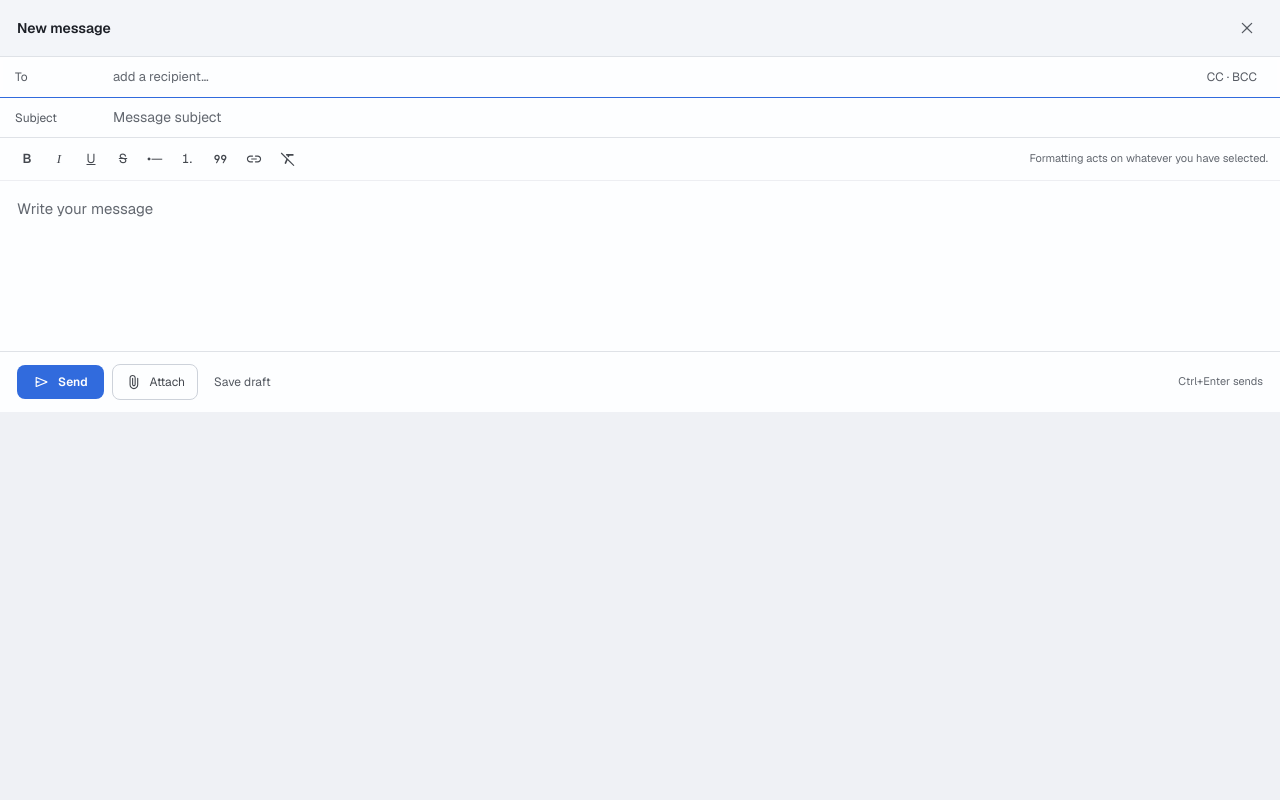
Composer, a message of its own › closes the composer once the deployment has queued the message, and says from the corner that it was
In the dropdown labelled "To": (651, 77) [113, 67, 1189, 87], type "ada@example.invalid"
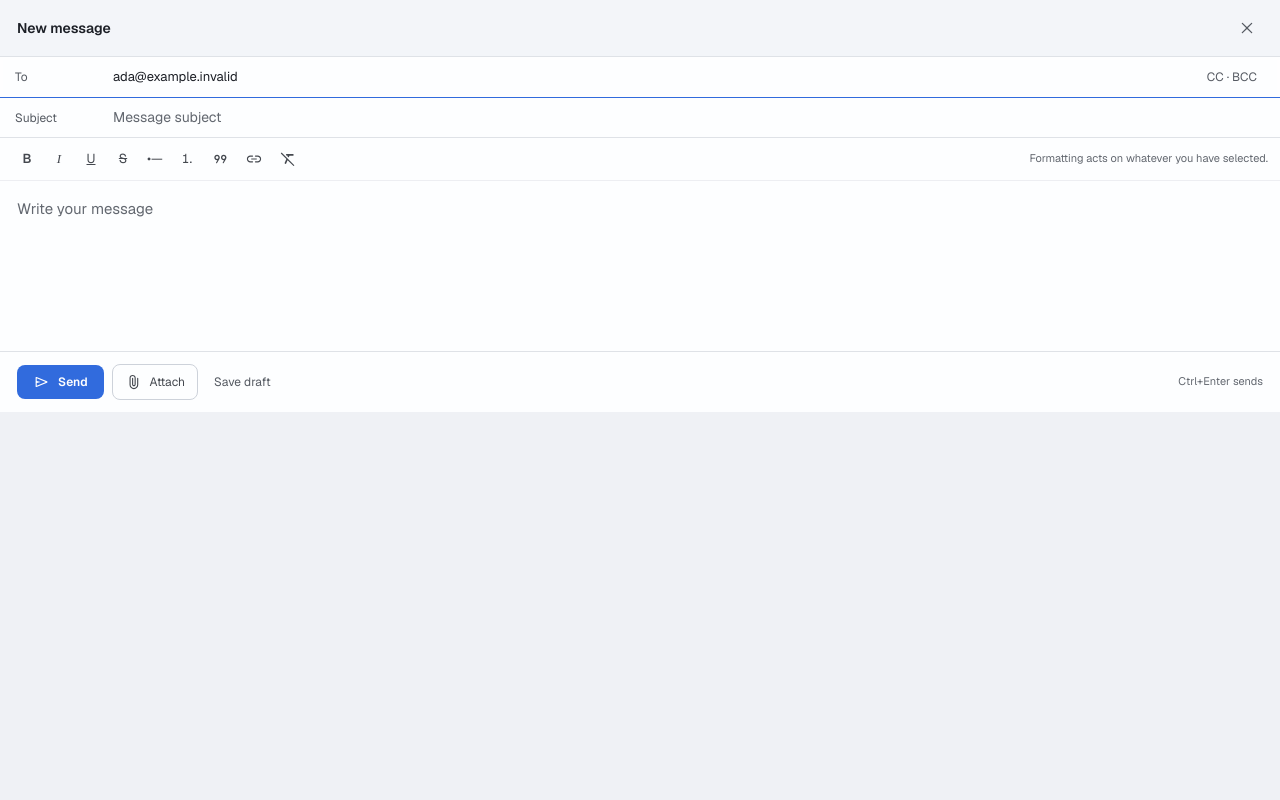
Press Enter in the dropdown labelled "To", box [113, 67, 1189, 87]
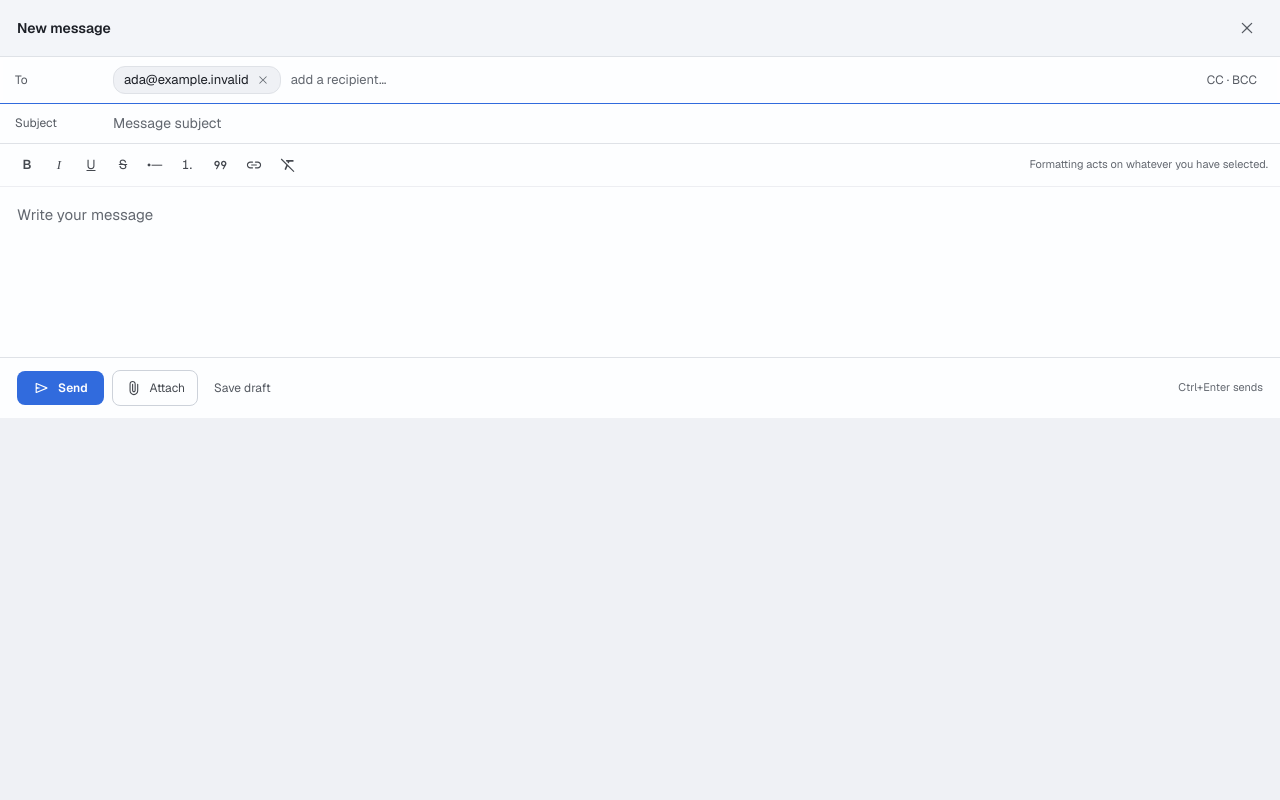
Click the button "Send": (60, 388) [17, 370, 104, 404]
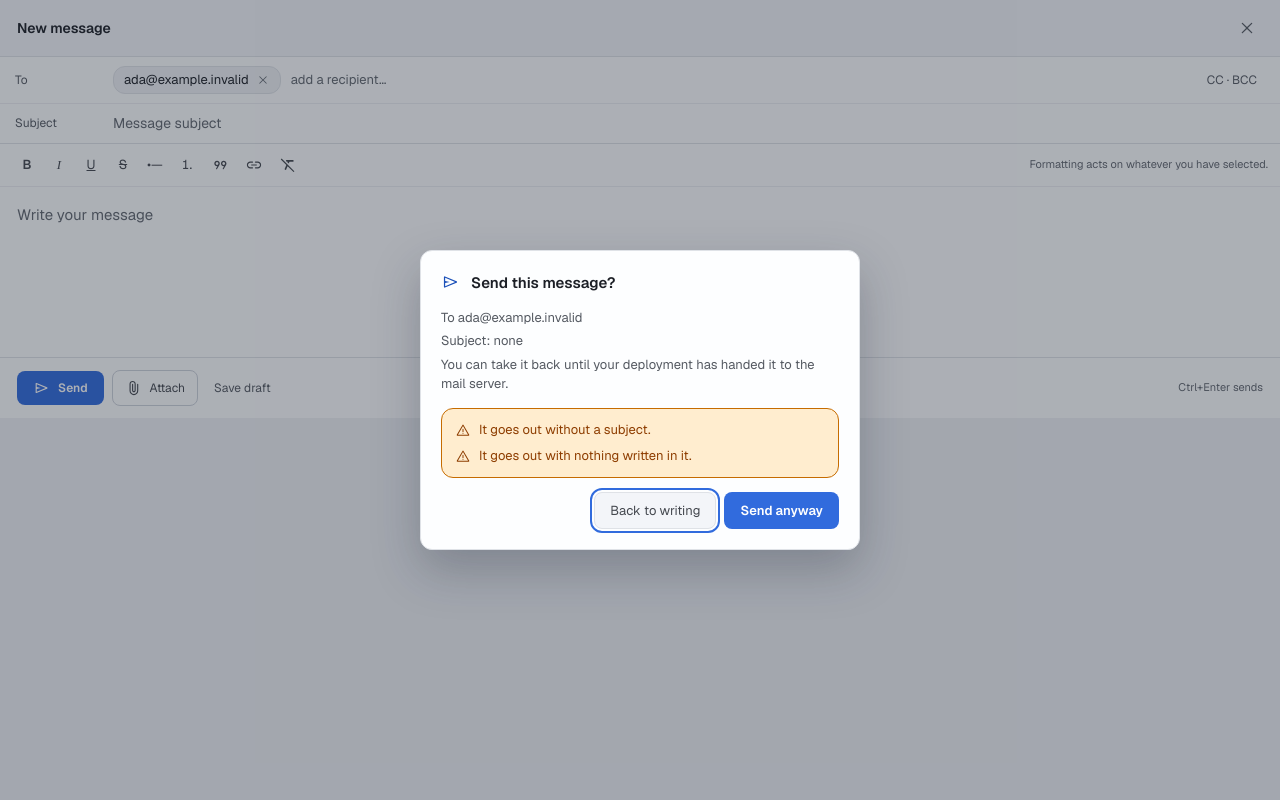
Click the button "Send anyway": (782, 511) [724, 492, 839, 529]
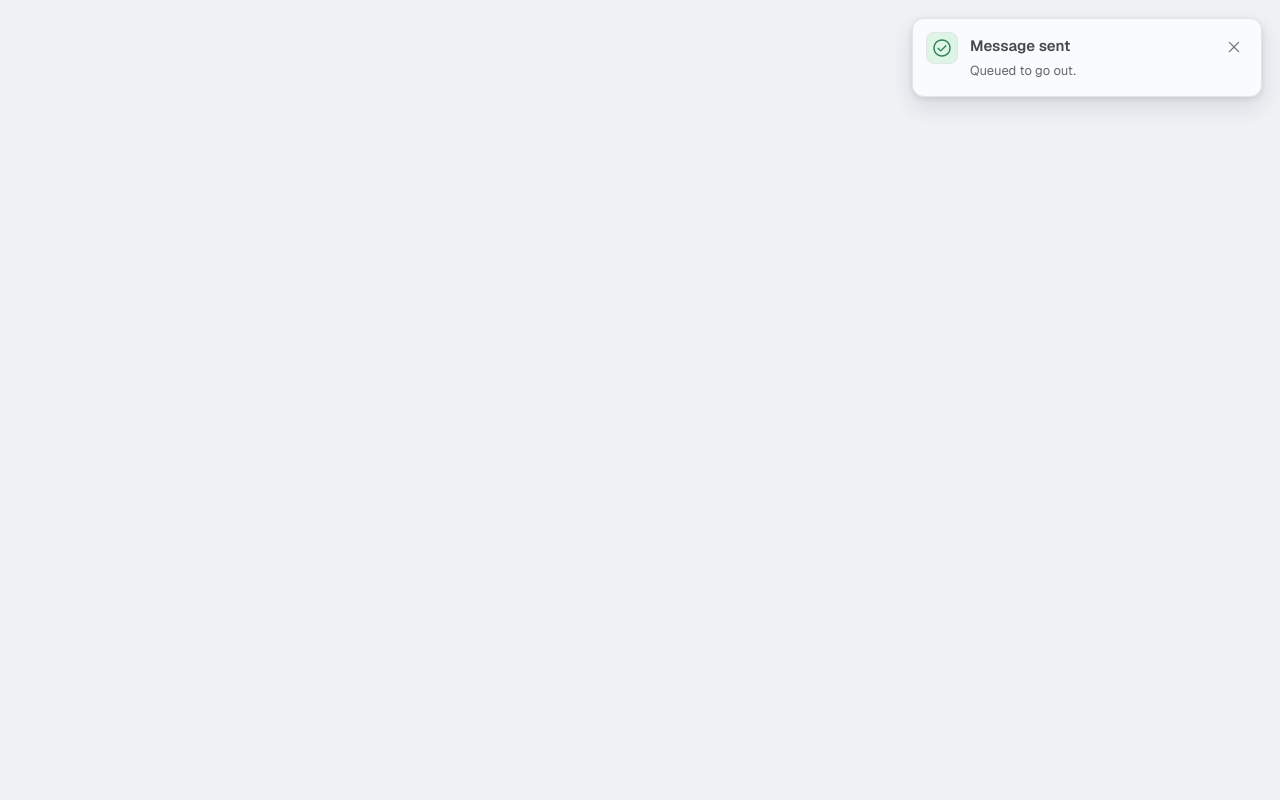
Check: the text "Queued to go out." is shown, box [970, 62, 1076, 79]
Check: the heading "New message" is gone
